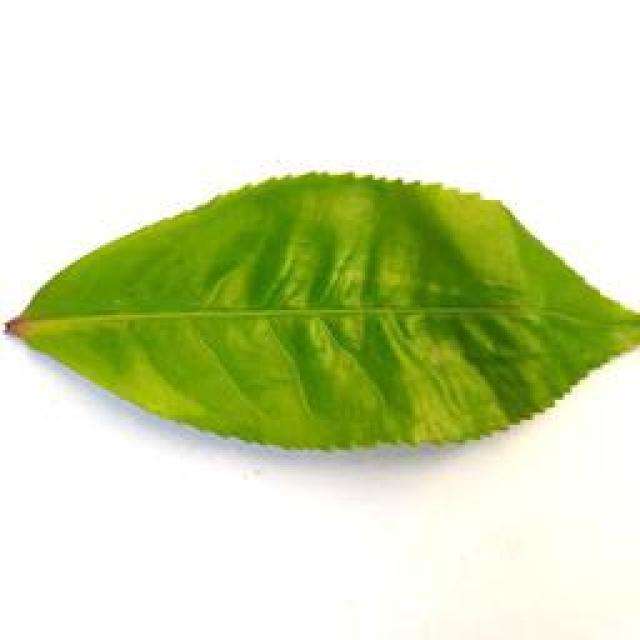Healthy: (0, 164, 640, 449)
